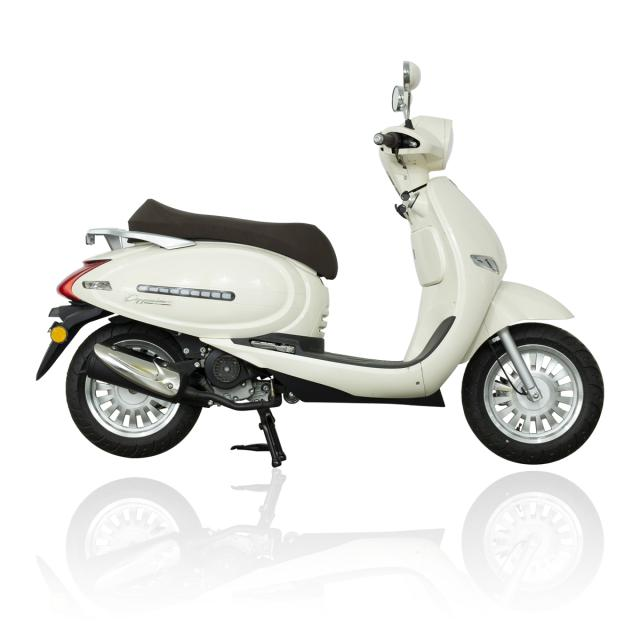Motorcycle: (37, 62, 605, 467)
